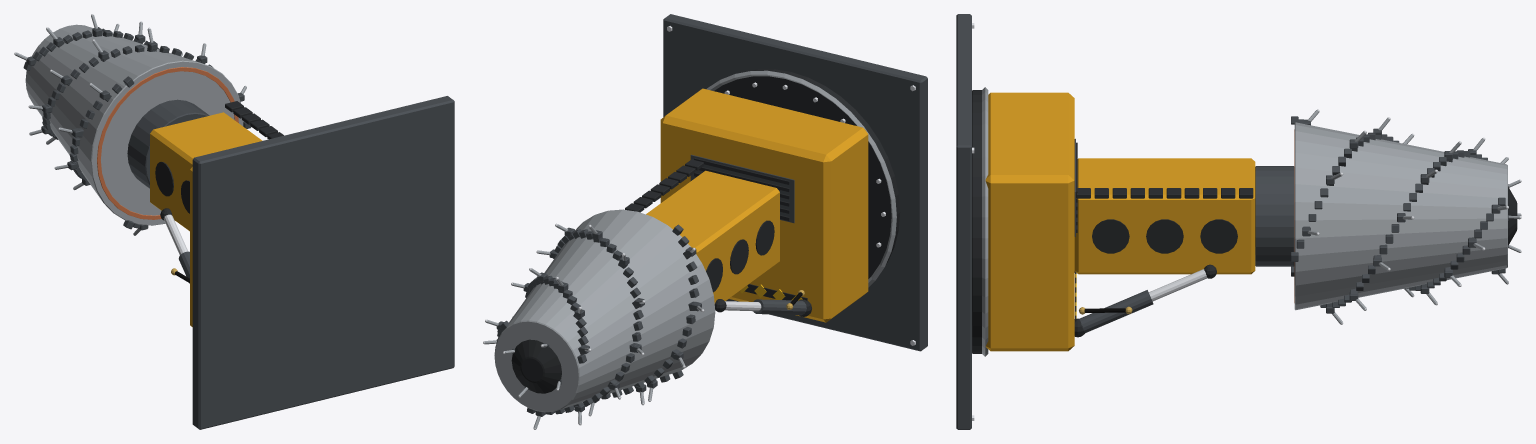
File: mining_head_large.glb
3 views of the same model, side by side, from view 1: azimuth 30°, elevation 25°; view 2: azimuth 150°, elevation 25°; view 3: azimuth 270°, elevation 25° (orthographic). The views are drawn at different scales.
Visible parts, largest first — view 1: mining_head_large; view 2: mining_head_large; view 3: mining_head_large.
Part boxes in pixels (left/top/right/bottom): mining_head_large: left=14, top=14, right=454, bottom=429; mining_head_large: left=483, top=14, right=927, bottom=429; mining_head_large: left=956, top=14, right=1521, bottom=429.
Size of the model in its own units: 2 by 2 by 3.6.
